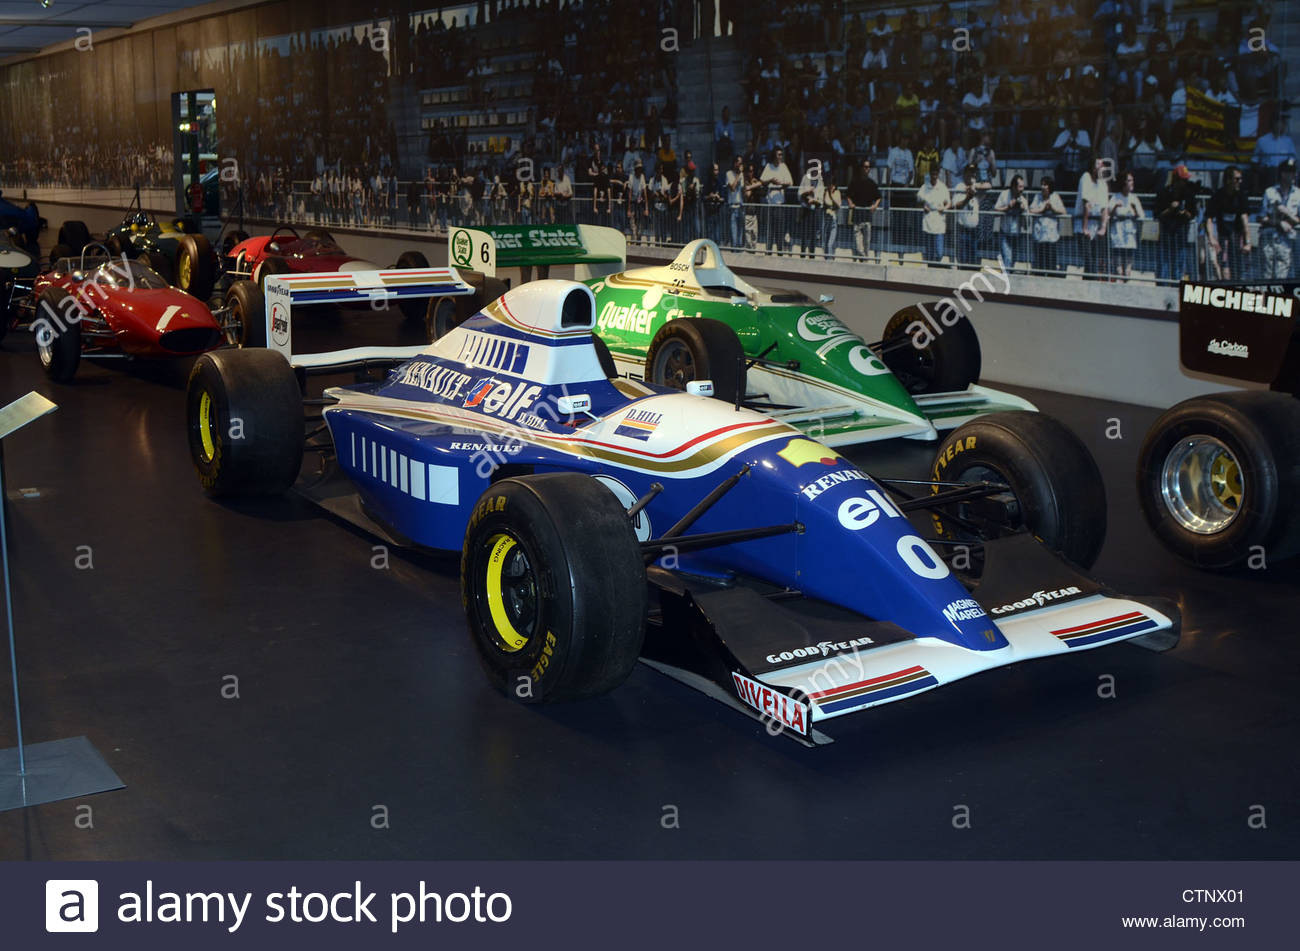f1_car: (174, 248, 1215, 785), (428, 207, 1054, 473)
